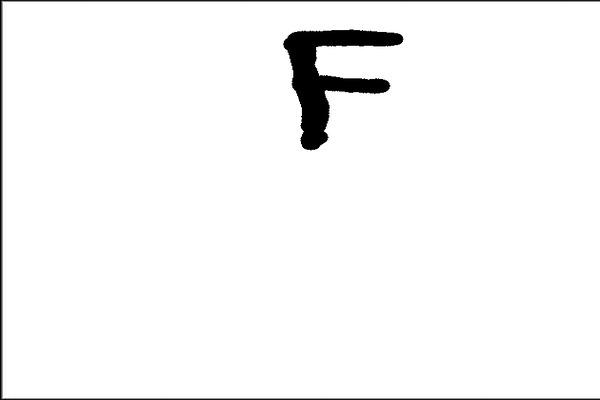F: (277, 26, 405, 154)
